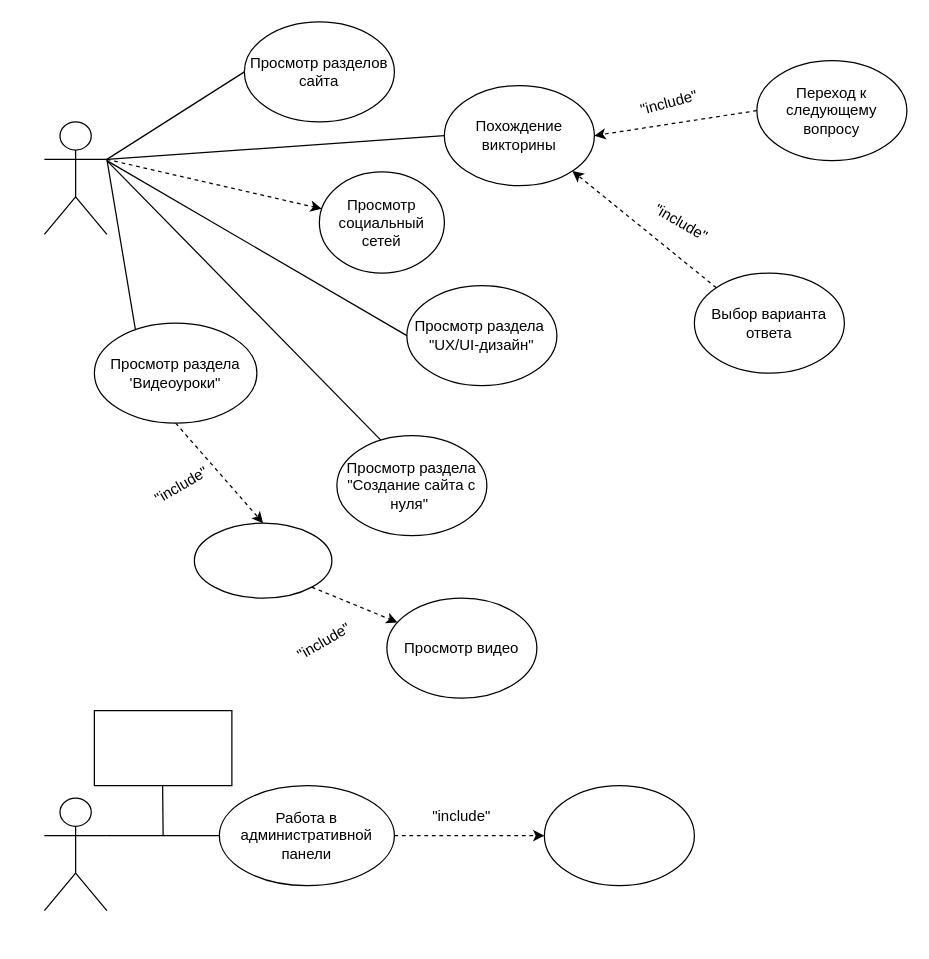
This 929x959 diagram has some shape labels left out. Each missing label, with the centre of its shape:
Администратор: point 75,854
Выбор видео: point 262,560
Гость: point 75,177
Доступно после авторизации: point 162,747
Редактирование страниц сайта: point 618,835
